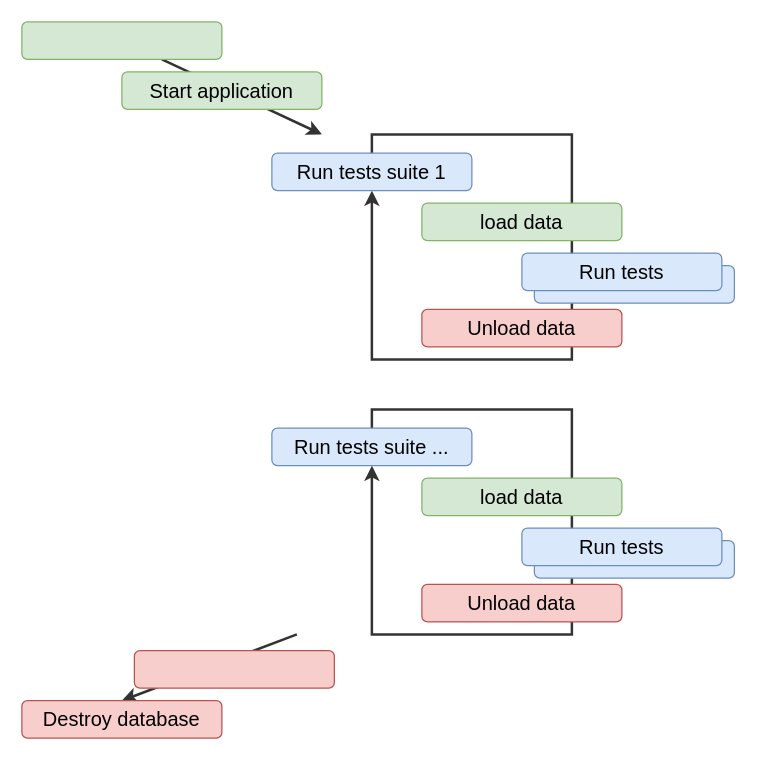
This 769x760 diagram has some shape labels left out. The shapes that lost their labels are listed below. From the top down, each one's centre as x and y in pixels, then its label:
(x=121, y=40): Create database
(x=233, y=668): Stop application
